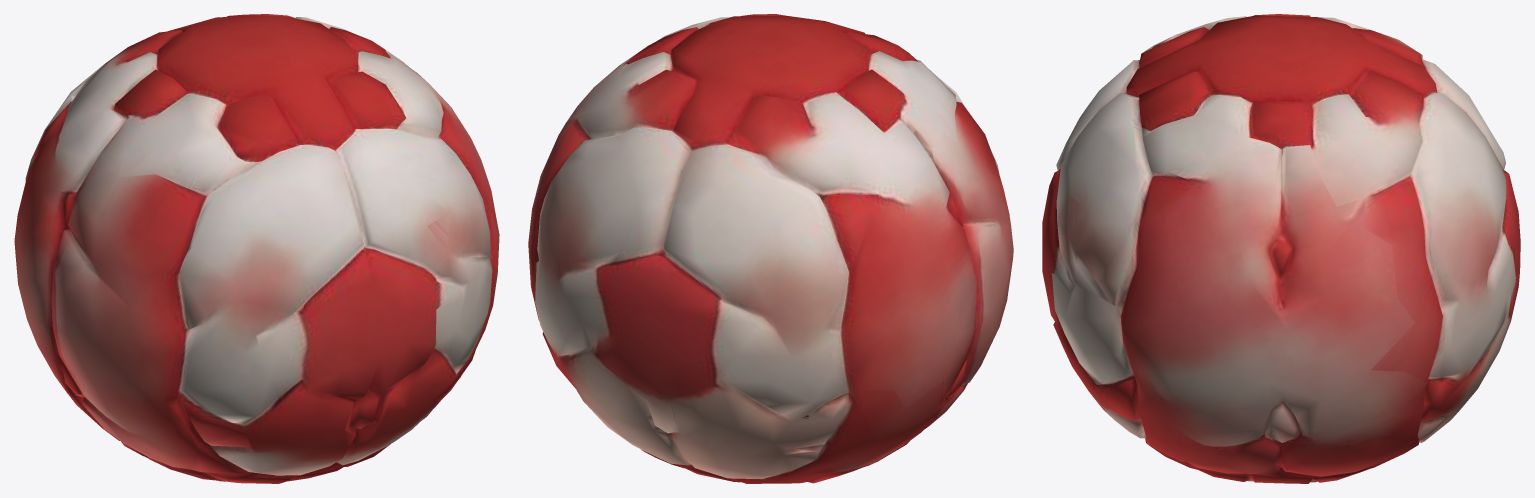
File: ball.glb
3 renders of one model, left to right at view 1: azimuth 30°, elevation 25°; view 2: azimuth 150°, elevation 25°; view 3: azimuth 270°, elevation 25°, orthographic.
Parts seen in each view (by area): view 1: model; view 2: model; view 3: model.
Part boxes in pixels (x1,y1,x2,y2): model: (14, 14, 499, 483); model: (528, 14, 1013, 483); model: (1042, 14, 1520, 483).
Size of the model in its own units: 1.9 by 1.83 by 1.89.
1 material, 1 textured.
